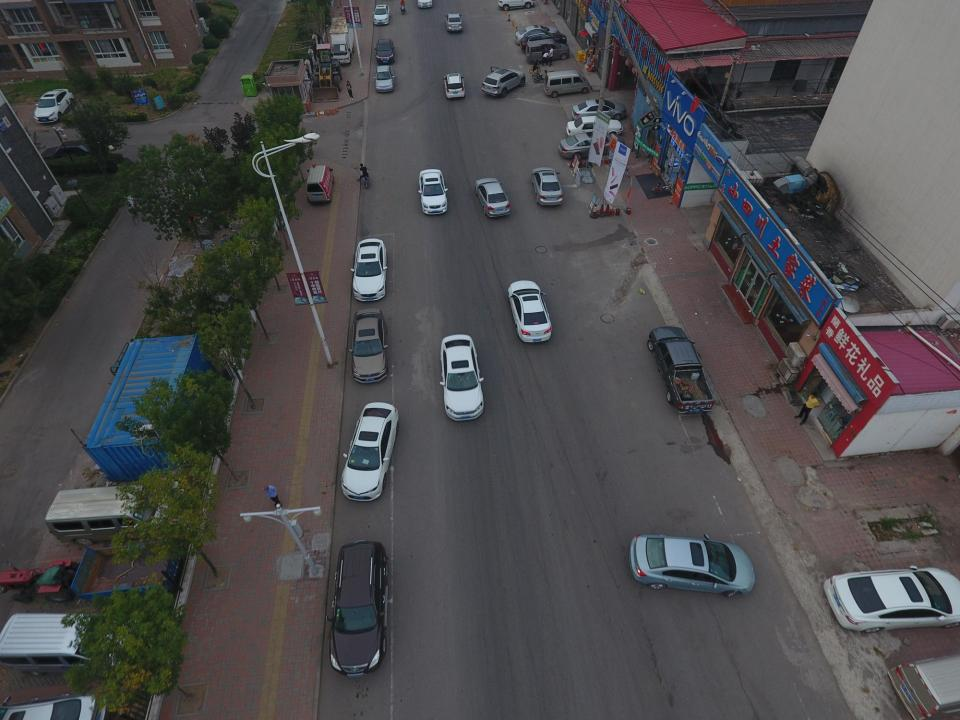car: (326, 540, 388, 677), (825, 567, 951, 634), (629, 533, 756, 597), (342, 402, 399, 501), (438, 334, 485, 421), (348, 309, 389, 381), (507, 279, 552, 344), (41, 140, 124, 174), (2, 695, 106, 720), (351, 238, 389, 300), (558, 132, 624, 160), (475, 176, 510, 218), (481, 65, 526, 97), (417, 169, 448, 215), (34, 90, 74, 124), (571, 98, 629, 121), (531, 166, 563, 206), (566, 116, 622, 137), (521, 30, 567, 53), (515, 25, 560, 47), (373, 65, 396, 94), (442, 72, 465, 99), (374, 39, 395, 63), (372, 4, 390, 26), (497, 0, 535, 10), (444, 13, 462, 33), (418, 0, 434, 10)
truck: (0, 546, 179, 606), (648, 325, 714, 414), (328, 17, 358, 64)
van: (0, 609, 137, 676), (45, 484, 172, 545), (888, 654, 954, 720), (544, 70, 590, 98), (306, 163, 335, 204), (526, 39, 569, 61)
